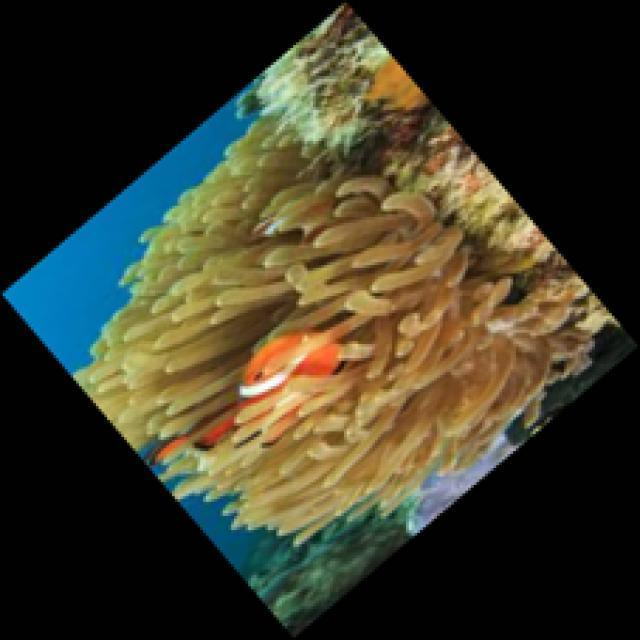Healthy: (71, 119, 590, 537)
